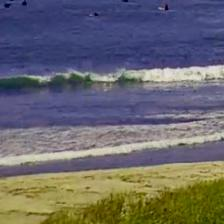surfer: (87, 12, 100, 17), (163, 4, 170, 12), (22, 0, 28, 6), (4, 4, 11, 9), (122, 0, 130, 4)
